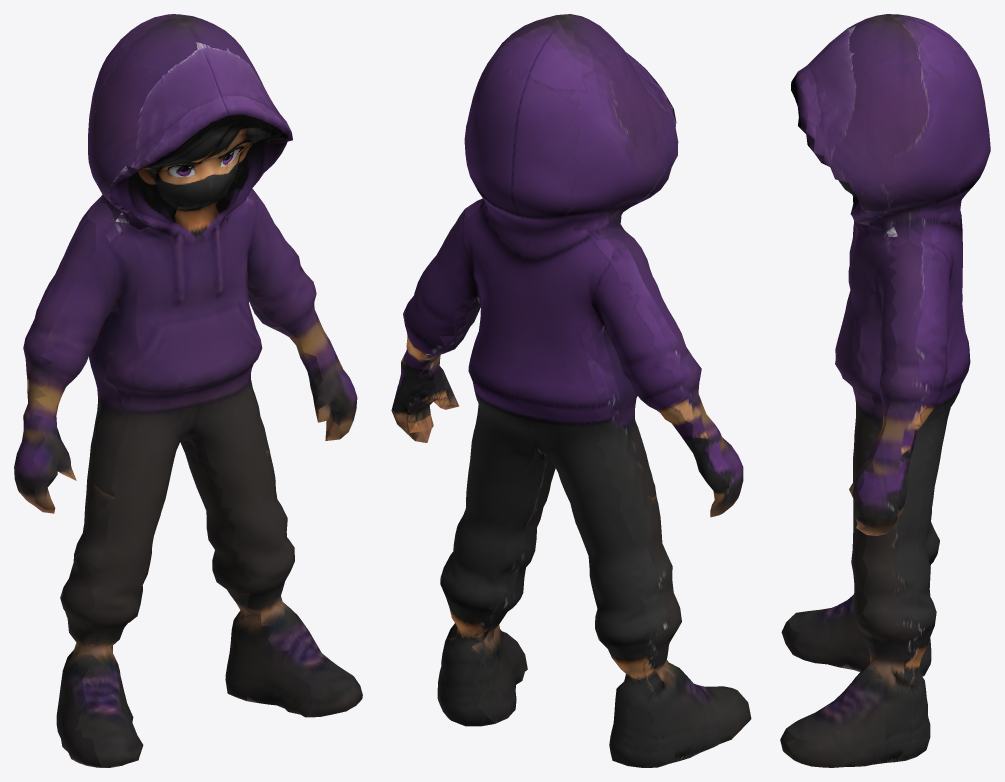
File: shadow-toon.glb
The picture shows the model from 3 angles, left to right: view 1: azimuth 30°, elevation 25°; view 2: azimuth 150°, elevation 25°; view 3: azimuth 270°, elevation 25°; orthographic projection. The views are drawn at different scales.
Parts seen in each view (by area): view 1: world; view 2: world; view 3: world.
Part boxes in pixels (box(x1,y1,x2,y2)): world: box(14, 14, 362, 767); world: box(391, 14, 751, 767); world: box(780, 14, 990, 767).
Bounding box in the file's own units: 0.4773 × 0.9503 × 0.2613.
Materials: 1 (1 with a texture image).
